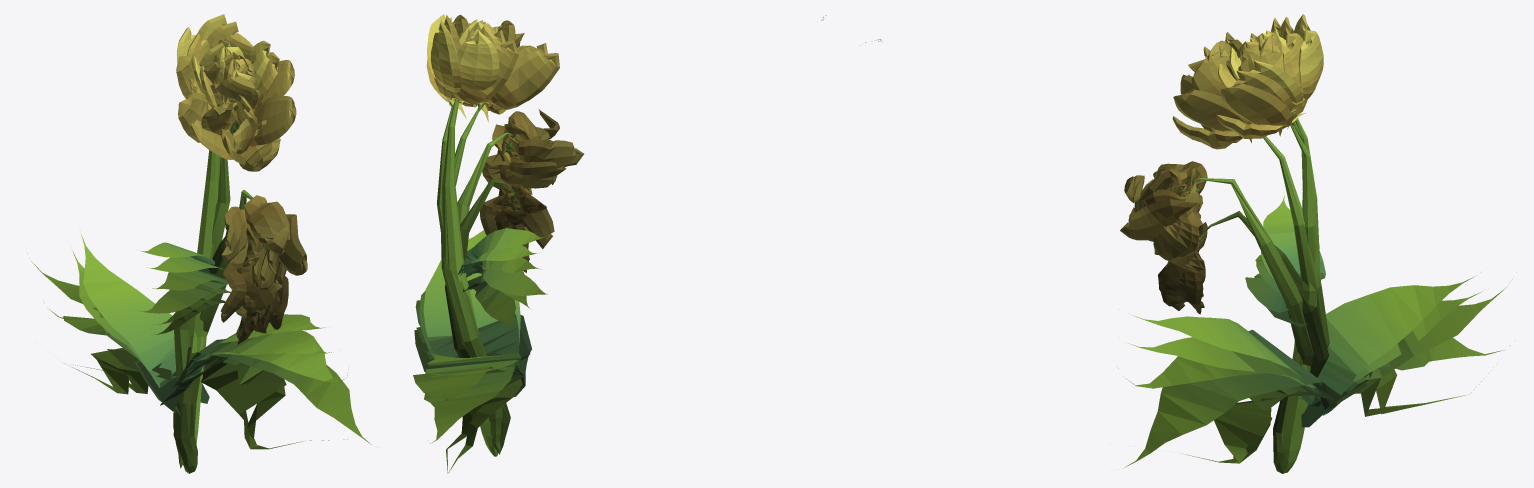
Rendered from wiltyellow.fbx.
3 renders of one model, left to right at view 1: azimuth 30°, elevation 25°; view 2: azimuth 150°, elevation 25°; view 3: azimuth 270°, elevation 25°, orthographic. The views are drawn at different scales.
Visible parts, largest first — view 1: yellow1; view 2: yellow1; view 3: yellow1.
Part boxes in pixels (box(x1,y1,x2,y2)): yellow1: box(31, 14, 371, 473); yellow1: box(413, 14, 826, 473); yellow1: box(865, 14, 1510, 473).
Size of the model in its own units: 0.2812 by 0.4636 by 0.5937.
